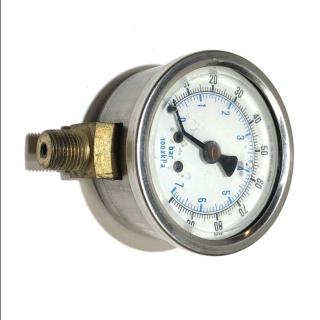gauge: (131, 42, 296, 266), (200, 140, 222, 164), (158, 186, 182, 206), (164, 96, 182, 118), (170, 96, 178, 107)
